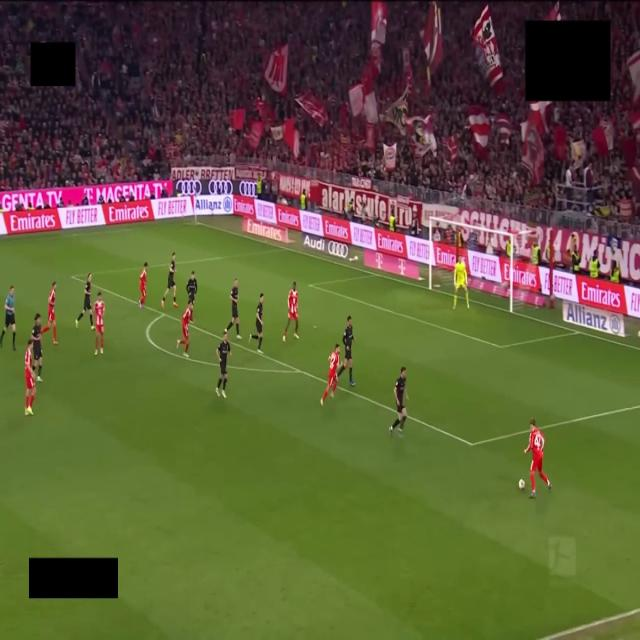ball: (519, 480, 525, 490)
player: (525, 419, 551, 498), (389, 367, 408, 436), (338, 316, 354, 386), (321, 344, 339, 405), (76, 272, 94, 329), (216, 331, 231, 398), (42, 281, 57, 344), (283, 282, 298, 341), (177, 302, 193, 357), (249, 294, 263, 353), (162, 253, 177, 308), (25, 337, 35, 415), (227, 279, 240, 339), (454, 257, 468, 309), (32, 314, 42, 382), (94, 292, 104, 355), (138, 263, 147, 309), (186, 271, 197, 303)
referee: (0, 286, 15, 351)
